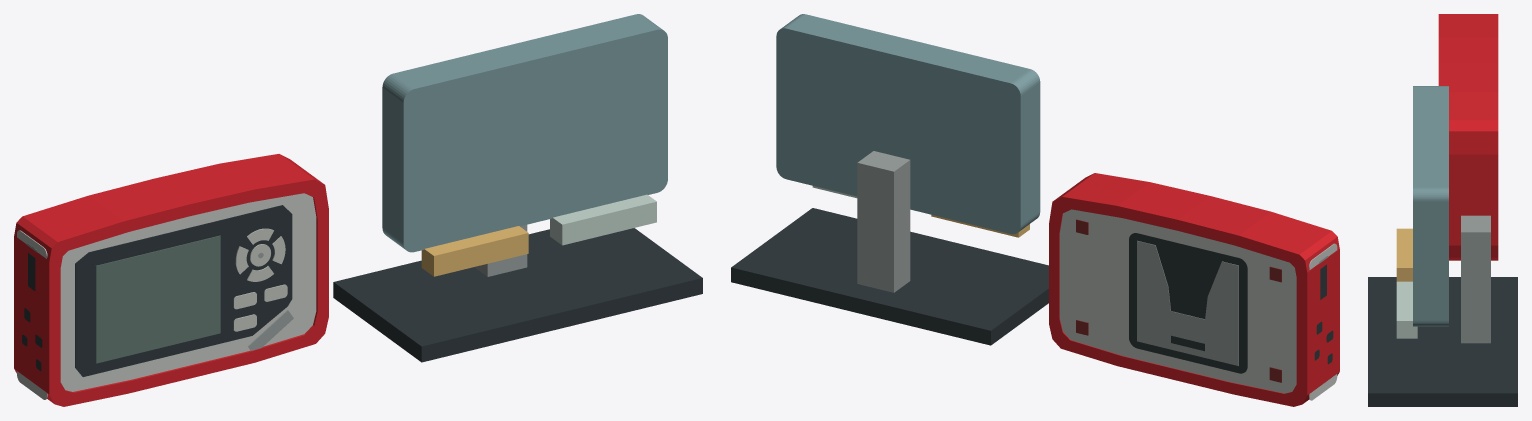
Rendered from pm100d-console.glb.
The picture shows the model from 3 angles, left to right: view 1: azimuth 30°, elevation 25°; view 2: azimuth 150°, elevation 25°; view 3: azimuth 270°, elevation 25°; orthographic projection. The views are drawn at different scales.
Parts seen in each view (by area): view 1: Readout_card_frame, Readout_card_base, Boot_outer_authoritative, LCD_81_4_by_61_0_exact, Silver_front_fascia, Dark_front_key_inset, Cycle_fixed_value, Cycle_display_units, LCD_minor_black_keyline, Readout_card_post; view 2: Readout_card_frame, Readout_card_base, Boot_outer_authoritative, Rear_silver_closed_skin, Readout_card_post, Rear_recessed_stand_pad, Kickstand_stowed_lower_bridge, Kickstand_stowed_right_arm, Kickstand_stowed_left_arm; view 3: Readout_card_base, Boot_outer_authoritative, Readout_card_frame, Readout_card_post, Cycle_display_units, Cycle_fixed_value.
Boxes of the visible parts, x1,y1,x2,y2 form: Readout_card_frame: (382,14,667,252); Readout_card_base: (333,228,702,362); Boot_outer_authoritative: (14,154,328,406); LCD_81_4_by_61_0_exact: (95,235,220,363); Silver_front_fascia: (60,193,316,391); Dark_front_key_inset: (75,205,292,376); Cycle_fixed_value: (421,226,528,276); Cycle_display_units: (550,194,656,245); LCD_minor_black_keyline: (92,231,223,367); Readout_card_post: (474,224,527,276); Readout_card_frame: (776,14,1040,234); Readout_card_base: (731,208,1048,345); Boot_outer_authoritative: (1049,173,1339,406); Rear_silver_closed_skin: (1059,209,1296,393); Readout_card_post: (857,151,910,292); Rear_recessed_stand_pad: (1129,233,1247,373); Kickstand_stowed_lower_bridge: (1137,303,1238,365); Kickstand_stowed_right_arm: (1137,240,1170,312); Kickstand_stowed_left_arm: (1205,261,1238,329); Readout_card_base: (1368,277,1517,406); Boot_outer_authoritative: (1438,14,1498,260); Readout_card_frame: (1413,86,1448,326); Readout_card_post: (1461,215,1490,343); Cycle_display_units: (1396,281,1417,338); Cycle_fixed_value: (1396,228,1412,281).
Bounding box in the file's own units: 0.4006 × 0.156 × 0.1.
